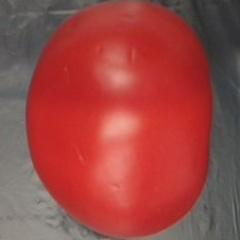unripe: (23, 0, 216, 240)
